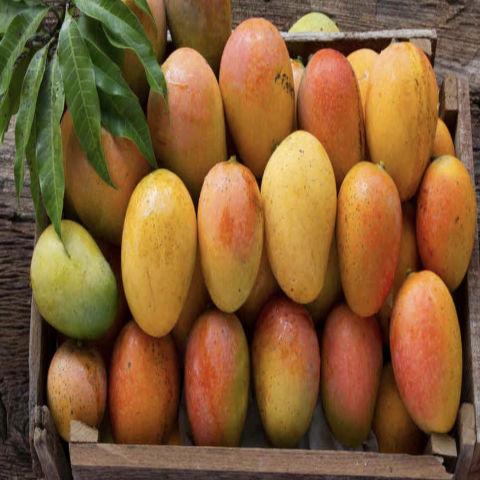mango: (255, 121, 345, 319), (356, 41, 453, 223), (116, 157, 201, 343), (384, 254, 467, 435), (209, 21, 298, 179), (332, 156, 417, 318), (184, 288, 256, 477), (21, 218, 113, 353), (189, 147, 265, 306), (312, 287, 383, 439), (412, 152, 479, 306)
